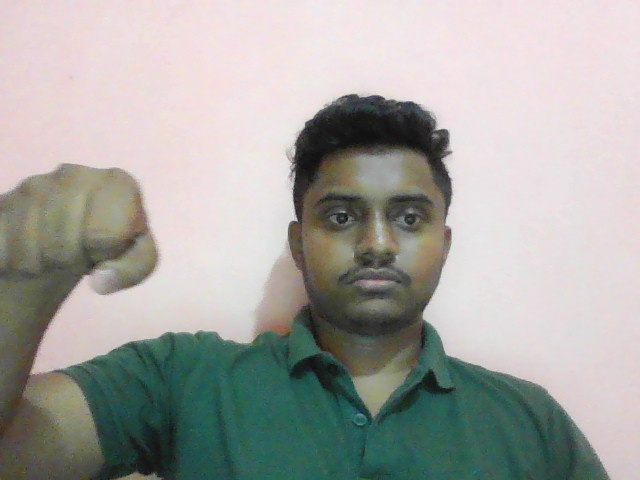Yes: (1, 155, 159, 305)
